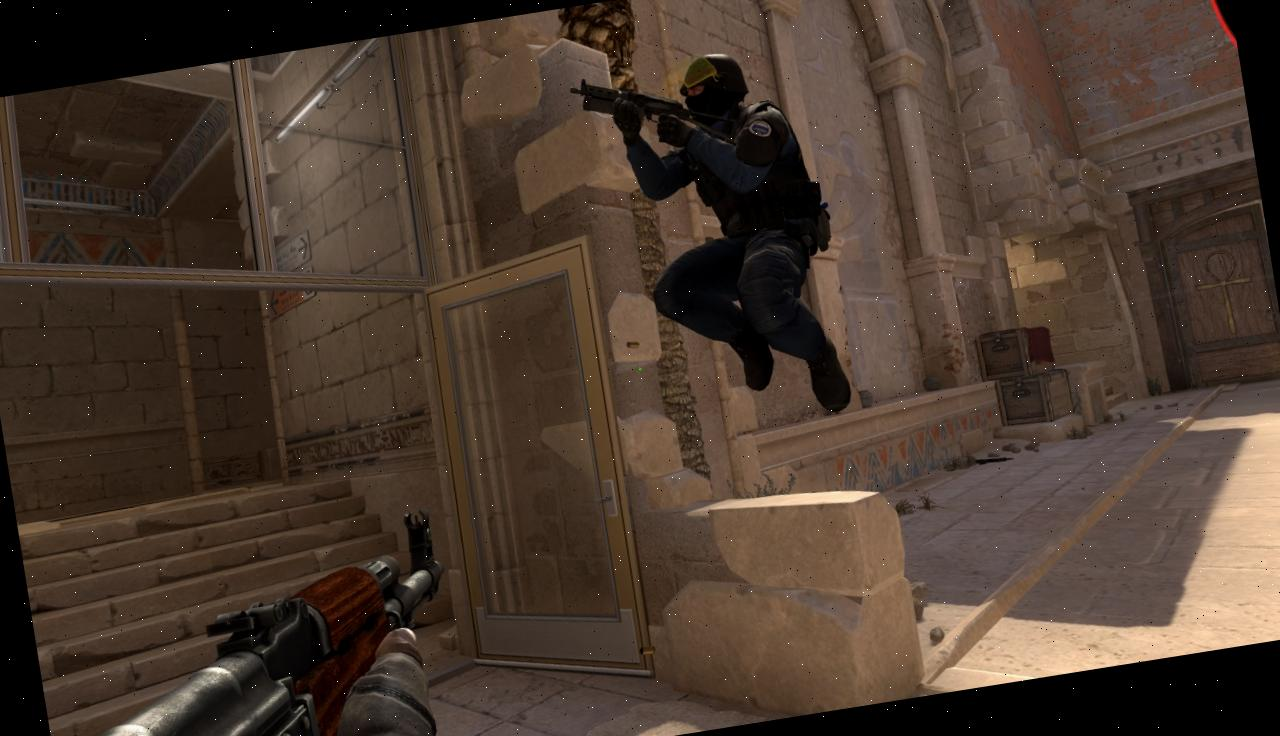ct: (608, 40, 856, 442)
cthead: (672, 46, 754, 124)
rifle: (25, 512, 474, 736)
